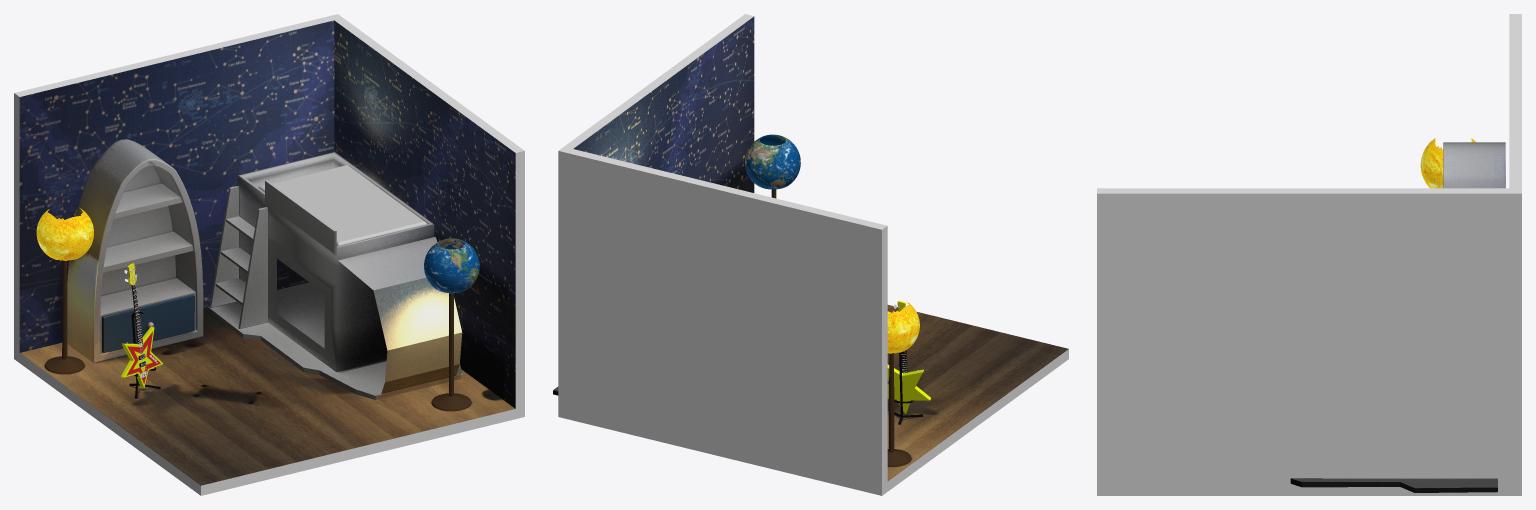
3 views of the same model, side by side, from view 1: azimuth 30°, elevation 25°; view 2: azimuth 150°, elevation 25°; view 3: azimuth 270°, elevation 25° (orthographic). The views are drawn at different scales.
Parts seen in each view (by area): view 1: Wall Left, Floor, Wall Right, Cube.002, Plane.036, Walls Back, Plane.038, Plane.035, Plane, Cube.001, Earth, Plane.040 (+9 smaller); view 2: Walls Back, Wall Right, Floor, Earth, Sun, A Body 02.002, Lamp.001; view 3: Walls Back, Cube.002, Plane.035, Sun.
Part boxes in pixels (<box>): Wall Left: <box>19,20,334,352</box>; Floor: <box>20,307,514,485</box>; Wall Right: <box>334,20,515,408</box>; Cube.002: <box>67,139,203,362</box>; Plane.036: <box>237,151,434,371</box>; Walls Back: <box>14,14,524,495</box>; Plane.038: <box>338,236,462,393</box>; Plane.035: <box>208,282,462,399</box>; Plane: <box>258,165,426,245</box>; Cube.001: <box>102,294,194,352</box>; Earth: <box>424,238,479,293</box>; Plane.040: <box>238,207,267,328</box>; Walls Back: <box>558,14,1068,495</box>; Wall Right: <box>573,16,754,192</box>; Floor: <box>887,305,1068,480</box>; Earth: <box>745,134,800,189</box>; Sun: <box>887,302,919,353</box>; A Body 02.002: <box>887,364,930,414</box>; Lamp.001: <box>887,353,911,467</box>; Walls Back: <box>1097,14,1521,495</box>; Cube.002: <box>1443,142,1505,188</box>; Plane.035: <box>1290,478,1497,492</box>; Sun: <box>1420,138,1475,188</box>.
Bounding box in the file's own units: 10.65 × 7.86 × 10.
